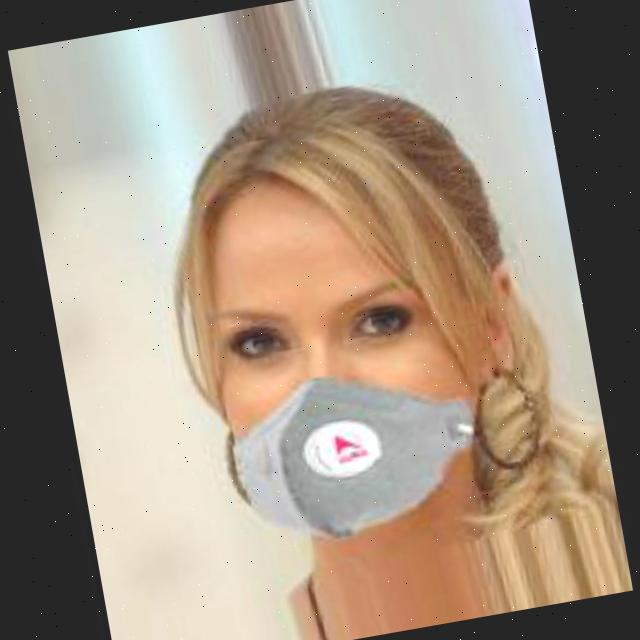suspicion: (66, 60, 602, 557)
